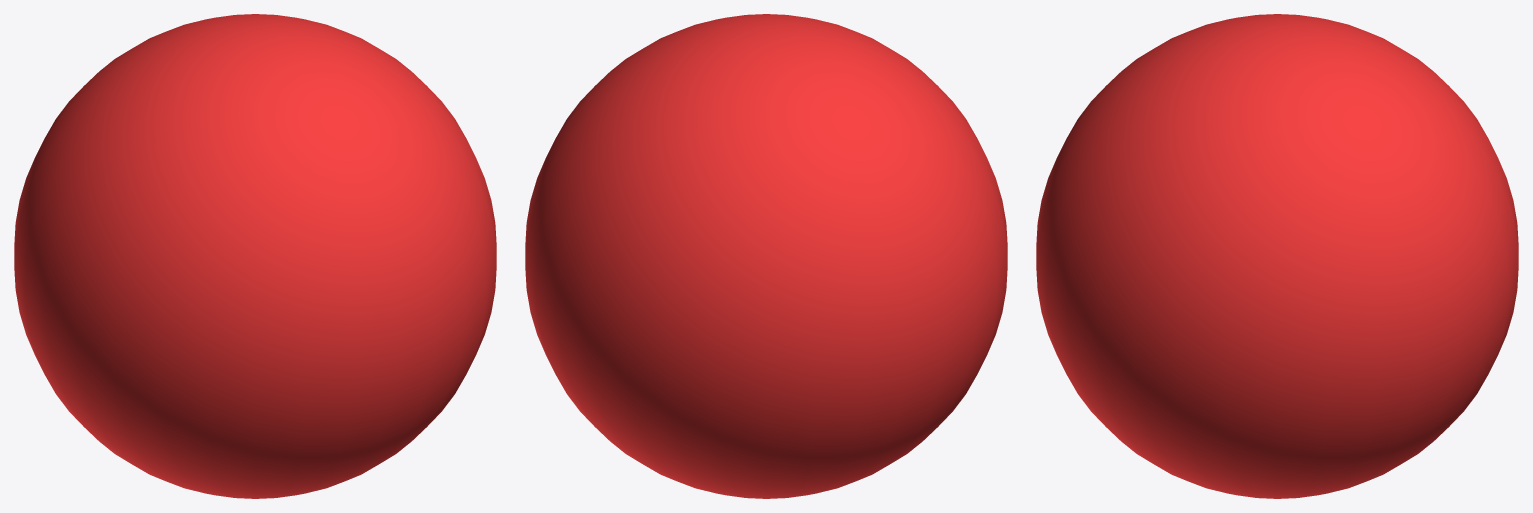
File: 2vgMuw06NnkGzHVg.gltf
The picture shows the model from 3 angles, left to right: view 1: azimuth 30°, elevation 25°; view 2: azimuth 150°, elevation 25°; view 3: azimuth 270°, elevation 25°; orthographic projection.
Visible parts, largest first — view 1: Sphere; view 2: Sphere; view 3: Sphere.
Boxes of the visible parts, box(x1,y1,x2,y2) form: Sphere: box(14, 14, 496, 498); Sphere: box(525, 14, 1007, 498); Sphere: box(1036, 14, 1518, 498).
Size of the model in its own units: 200 by 200 by 199.
